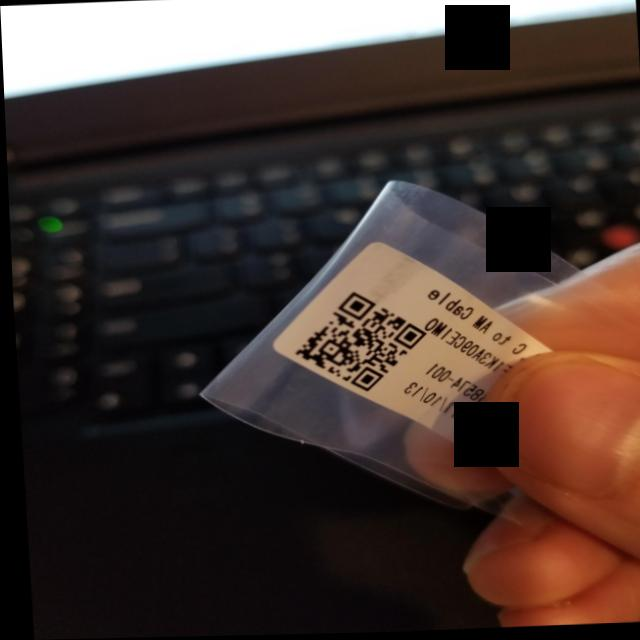QR_CODE: (277, 281, 436, 403)
